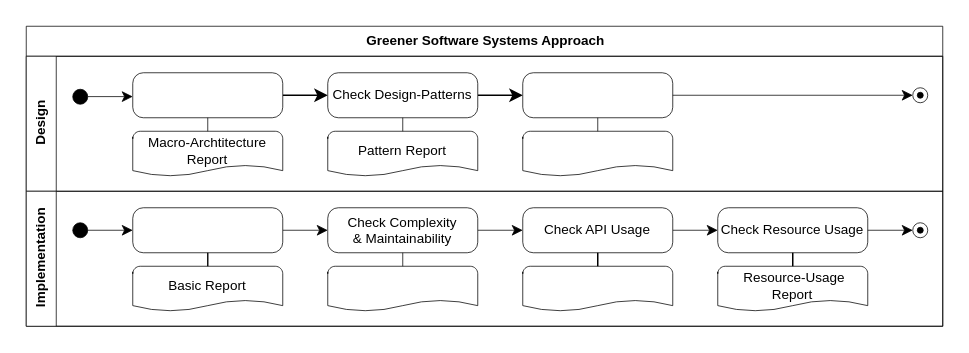
Image size: 969x353. Some labels were removed from this diagram. Here are the shapes that lost their labels. From the top down, the centre of each, then its label:
At [207,94]: "Check Macro-Architecture".
At [597,94]: "Check Paradigm-Specifics".
At [597,153]: "Paradigm Report".
At [207,229]: "Check Basics".
At [402,288]: "Complexity & Maintainability Report".
At [597,288]: "API-Usage Report".
